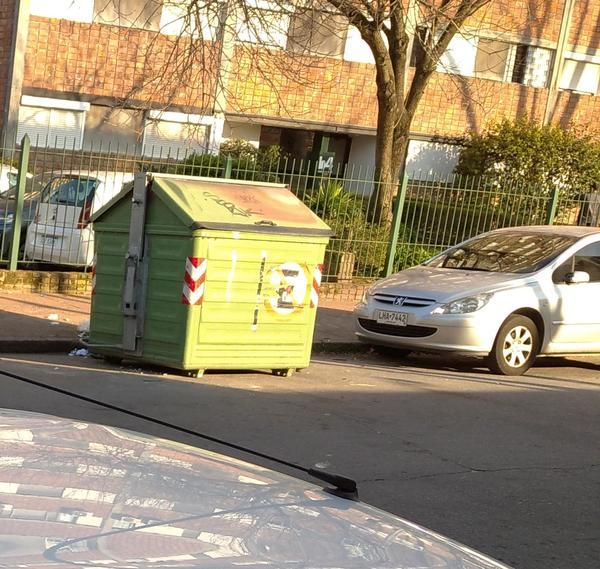Trash: (88, 170, 336, 378)
